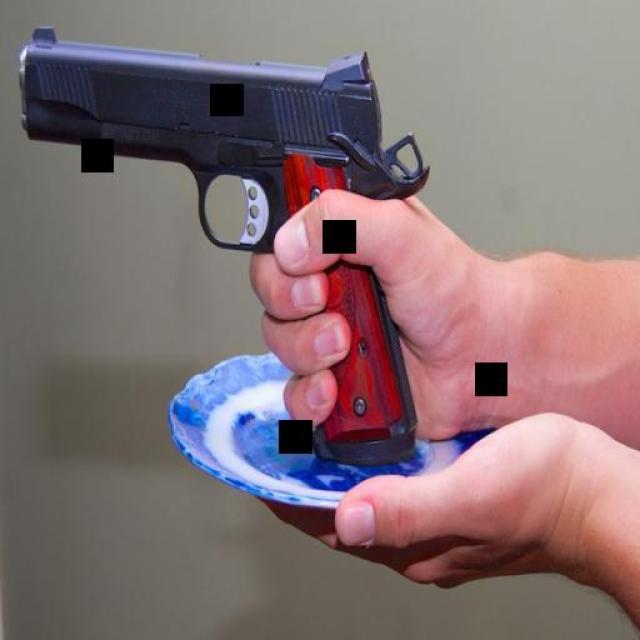gun: (19, 24, 428, 480)
